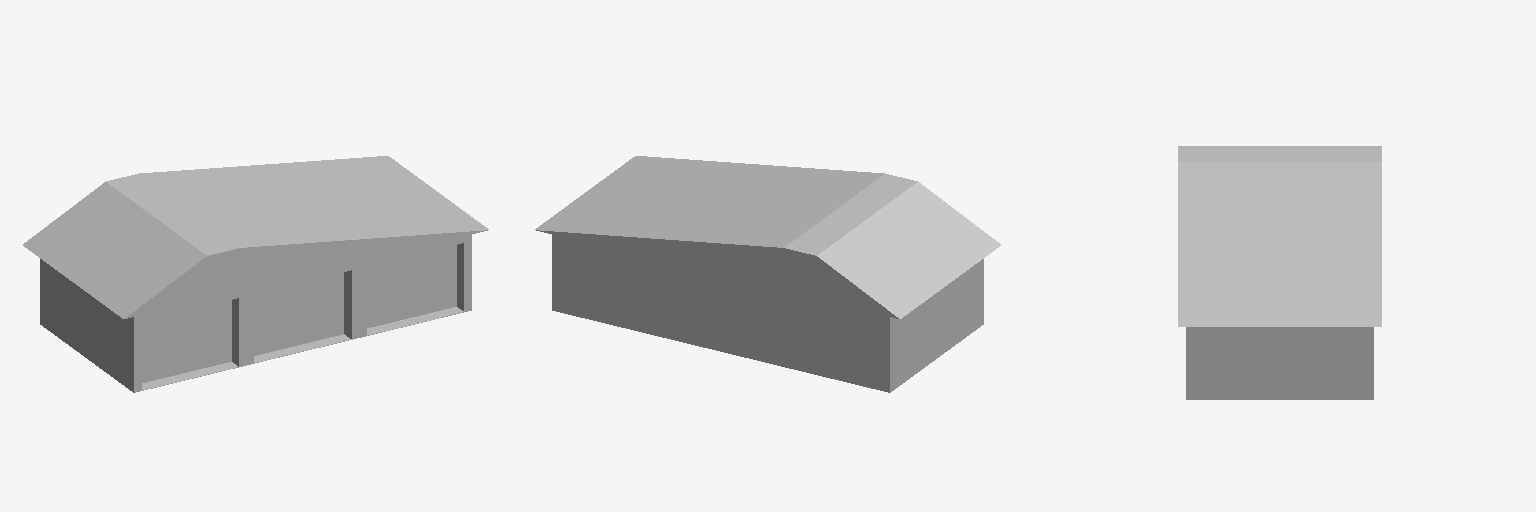
Rendered from warehouse_medium.obj.
3 renders of one model, left to right at view 1: azimuth 30°, elevation 25°; view 2: azimuth 150°, elevation 25°; view 3: azimuth 270°, elevation 25°, orthographic.
Parts seen in each view (by area): view 1: Cube.002; view 2: Cube.002; view 3: Cube.002.
Part boxes in pixels (x1,y1,x2,y2): Cube.002: (23, 156, 488, 392); Cube.002: (535, 156, 1000, 392); Cube.002: (1178, 146, 1381, 399).
Bounding box in the file's own units: 5.77 × 1.85 × 2.78.